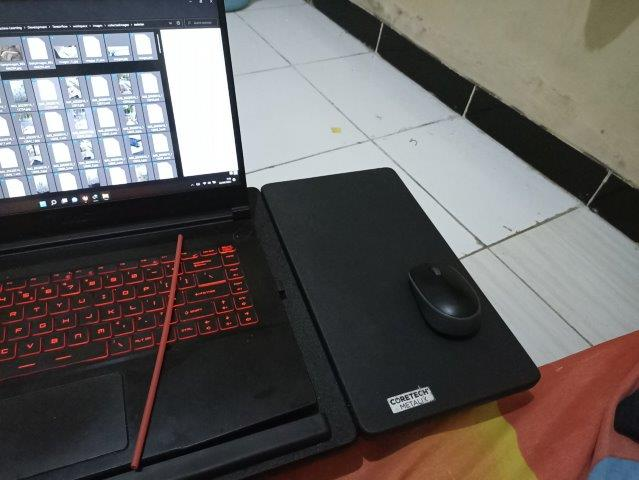sedotan: (131, 235, 183, 466)
